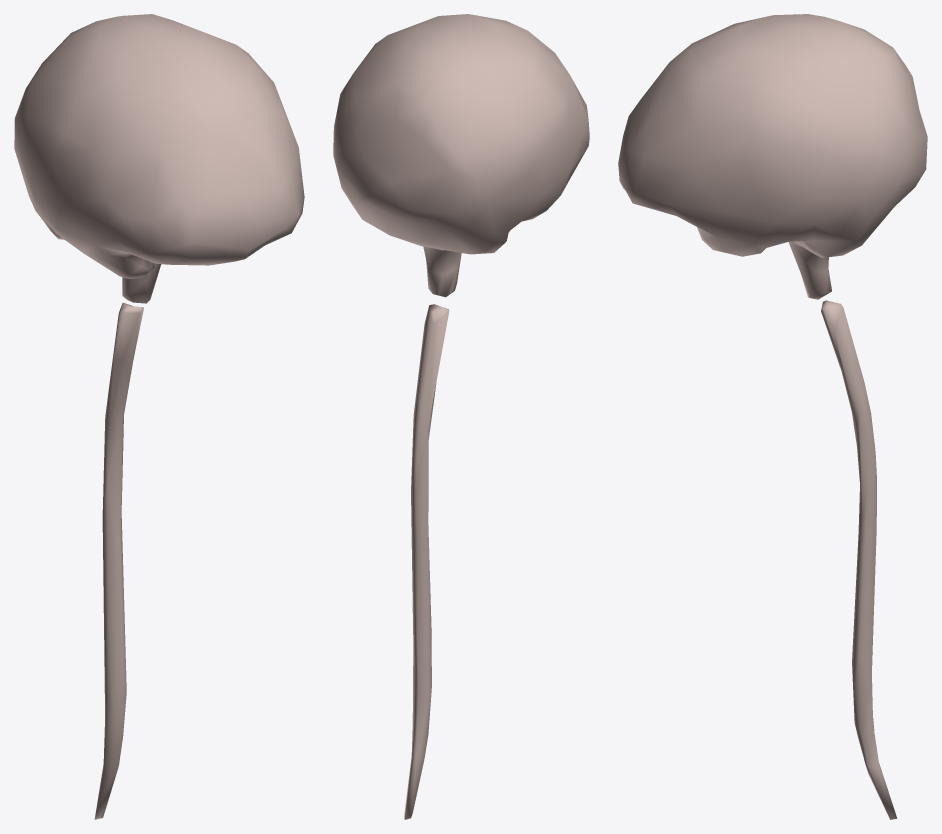
The model's file is pediatric_neonate_male.nervous.LOD2.glb.
The picture shows the model from 3 angles, left to right: view 1: azimuth 30°, elevation 25°; view 2: azimuth 150°, elevation 25°; view 3: azimuth 270°, elevation 25°; orthographic projection. The views are drawn at different scales.
Visible parts, largest first — view 1: PEDIATRIC.NEONATE.MALE.NERVOUS.BRAIN, PEDIATRIC.NEONATE.MALE.NERVOUS.SPINAL_CORD; view 2: PEDIATRIC.NEONATE.MALE.NERVOUS.BRAIN, PEDIATRIC.NEONATE.MALE.NERVOUS.SPINAL_CORD; view 3: PEDIATRIC.NEONATE.MALE.NERVOUS.BRAIN, PEDIATRIC.NEONATE.MALE.NERVOUS.SPINAL_CORD.
Part boxes in pixels (x1=…): PEDIATRIC.NEONATE.MALE.NERVOUS.BRAIN: x1=14, y1=14, x2=304, y2=303; PEDIATRIC.NEONATE.MALE.NERVOUS.SPINAL_CORD: x1=94, y1=302, x2=143, y2=819; PEDIATRIC.NEONATE.MALE.NERVOUS.BRAIN: x1=333, y1=14, x2=589, y2=297; PEDIATRIC.NEONATE.MALE.NERVOUS.SPINAL_CORD: x1=404, y1=304, x2=449, y2=819; PEDIATRIC.NEONATE.MALE.NERVOUS.BRAIN: x1=618, y1=14, x2=927, y2=299; PEDIATRIC.NEONATE.MALE.NERVOUS.SPINAL_CORD: x1=821, y1=300, x2=897, y2=819.
Bounding box in the file's own units: 0.086 × 0.3015 × 0.1068.
